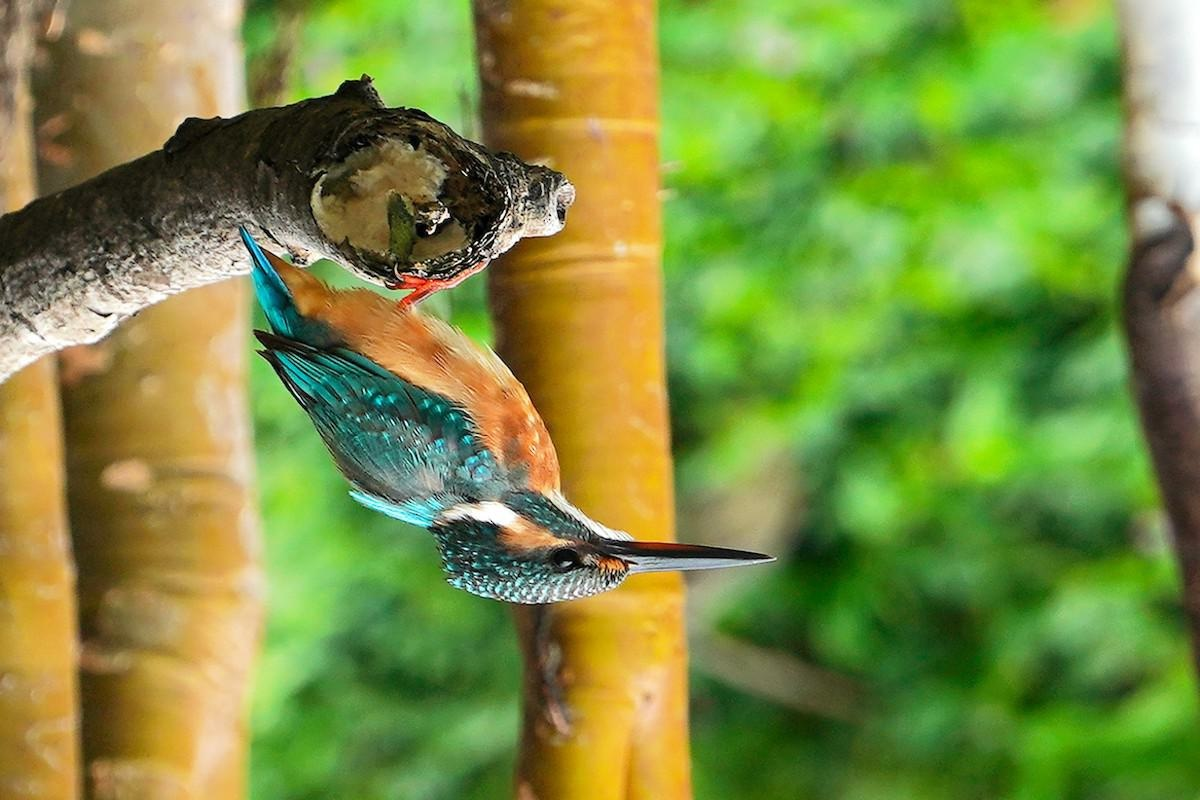kingfisher: (210, 225, 790, 602)
